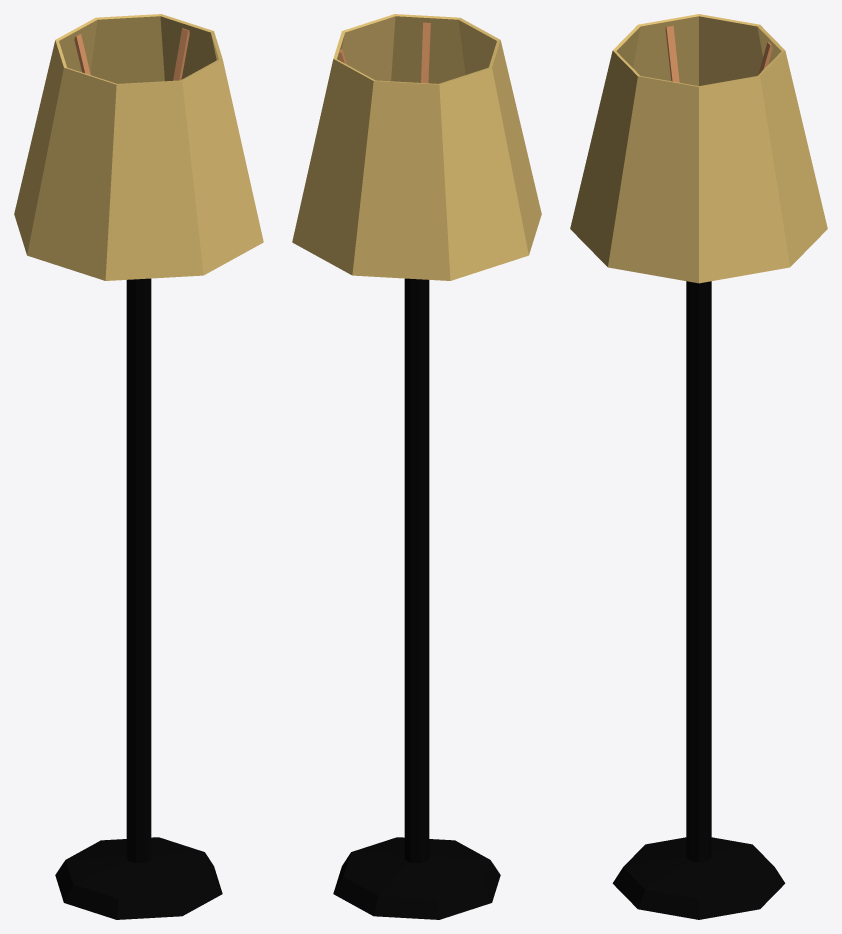
The model's file is lamp.fbx.
3 renders of one model, left to right at view 1: azimuth 30°, elevation 25°; view 2: azimuth 150°, elevation 25°; view 3: azimuth 270°, elevation 25°, orthographic.
Parts seen in each view (by area): view 1: Standing_lamp_01_Circle.003; view 2: Standing_lamp_01_Circle.003; view 3: Standing_lamp_01_Circle.003.
Part boxes in pixels (x1,y1,x2,y2): Standing_lamp_01_Circle.003: (14, 14, 263, 919); Standing_lamp_01_Circle.003: (292, 14, 541, 919); Standing_lamp_01_Circle.003: (570, 14, 827, 919).
Size of the model in its own units: 279 by 996 by 279.
